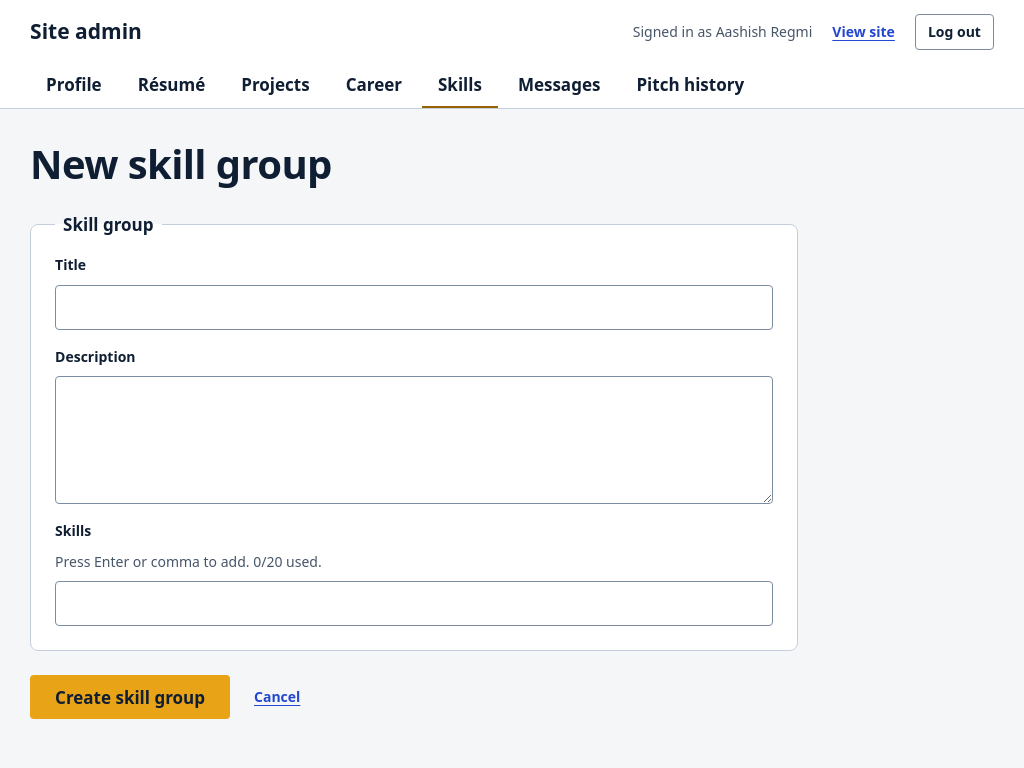
Test case: career and skills › requires at least one skill in a group
Type "Data" into the field labelled "Title" at (414, 307), box [55,285,773,330]
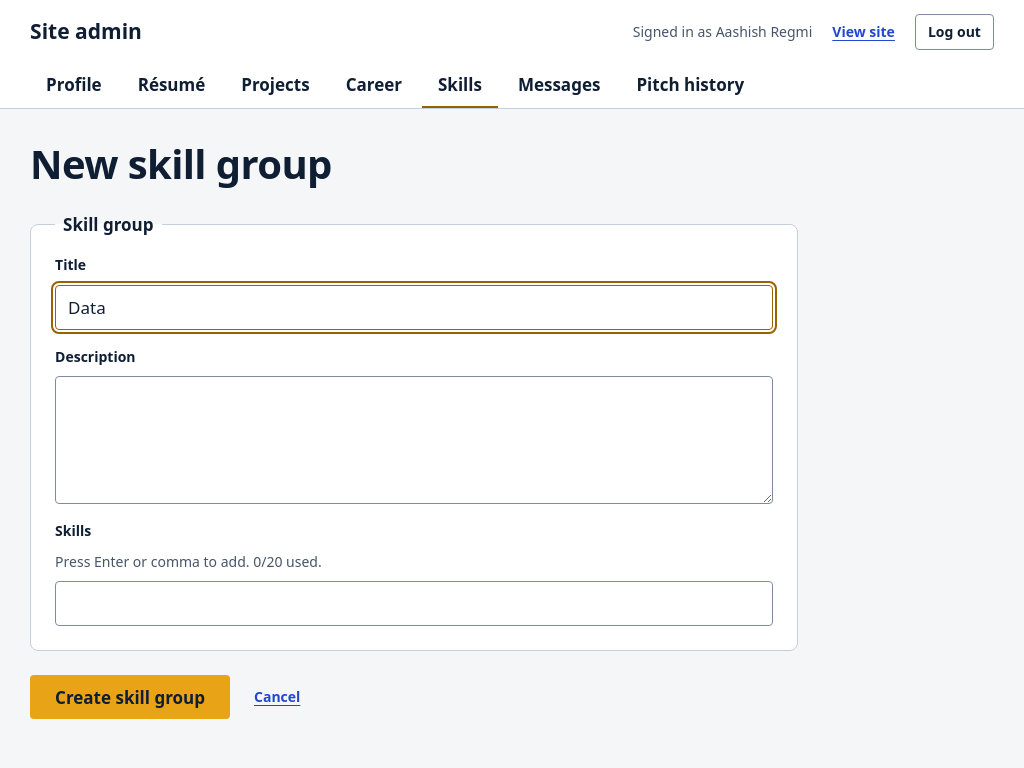
Type "Pipelines." into the text box labelled "Description" at (414, 440), box [55,376,773,504]
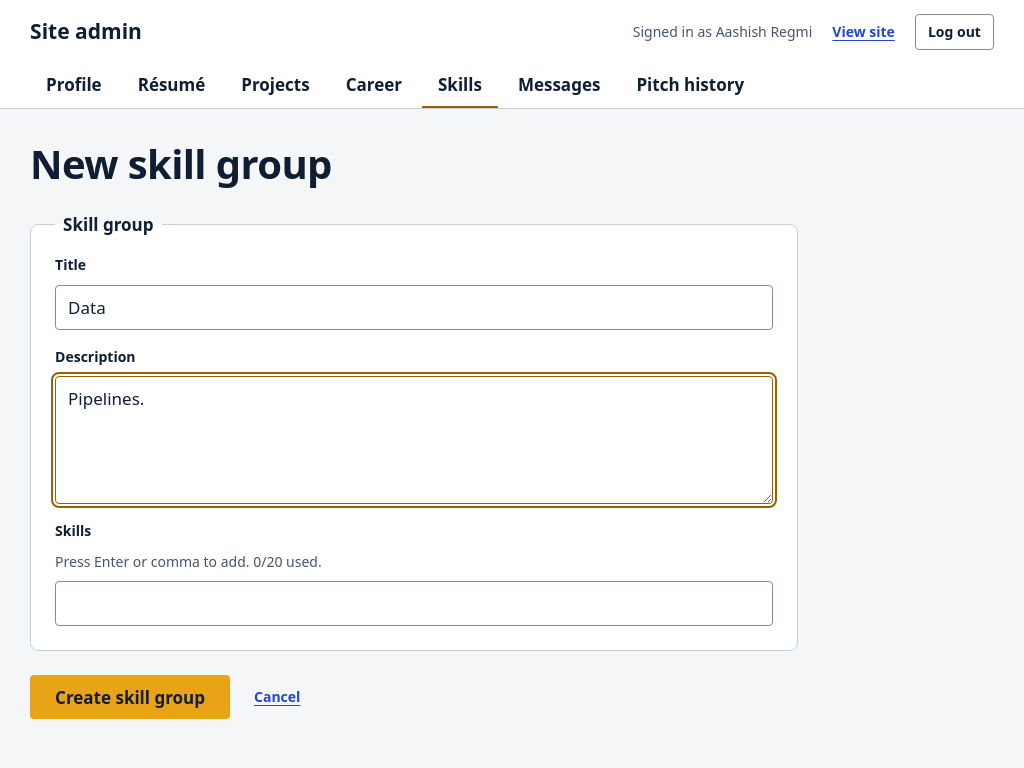
Click the button "Create skill group" at (130, 697), box [30,675,230,719]
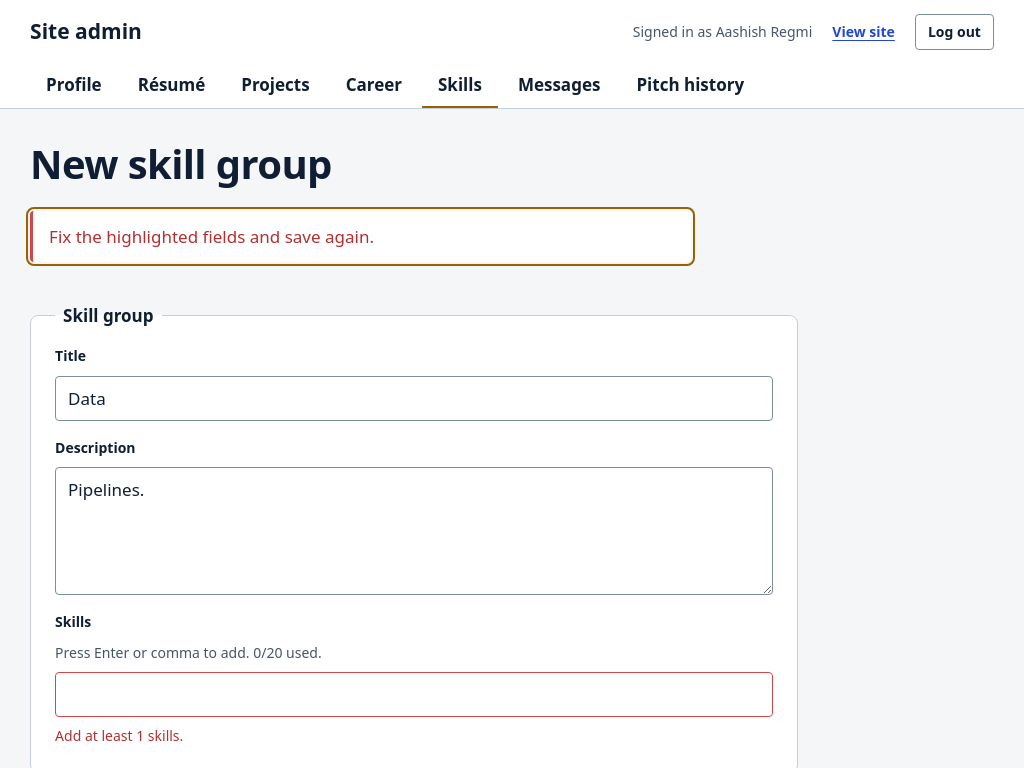
Expected: the message "Fix the highlighted fields and save again." is shown, [30,211,691,262]
